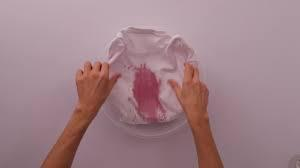oil: (127, 62, 173, 130)
